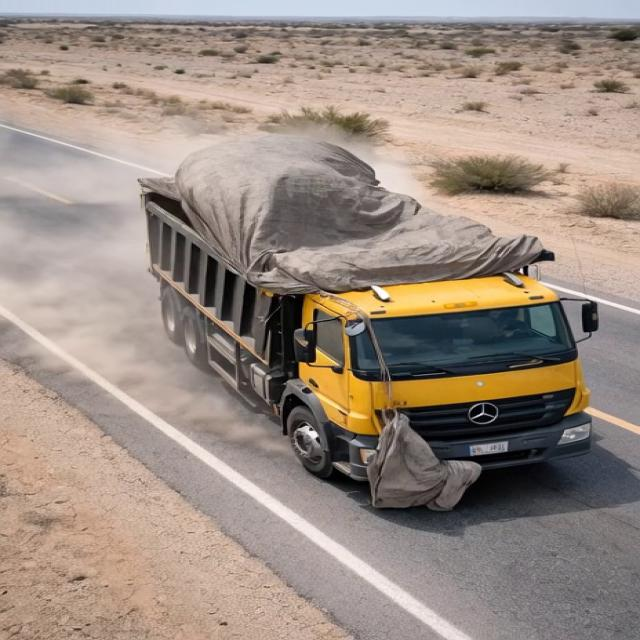trailer: (126, 164, 552, 271)
truck: (114, 135, 614, 479)
